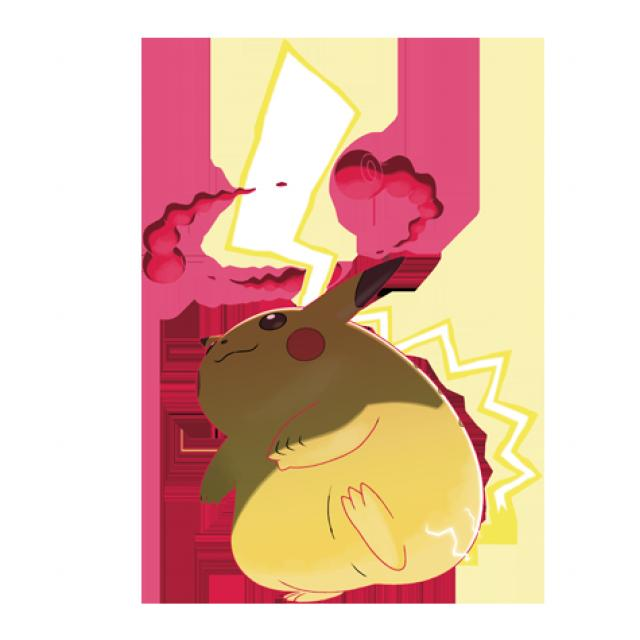Pikachu: (12, 16, 640, 637)
